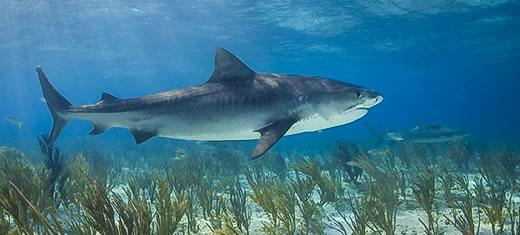Shark -Selachimorpha-: (26, 43, 390, 158)
